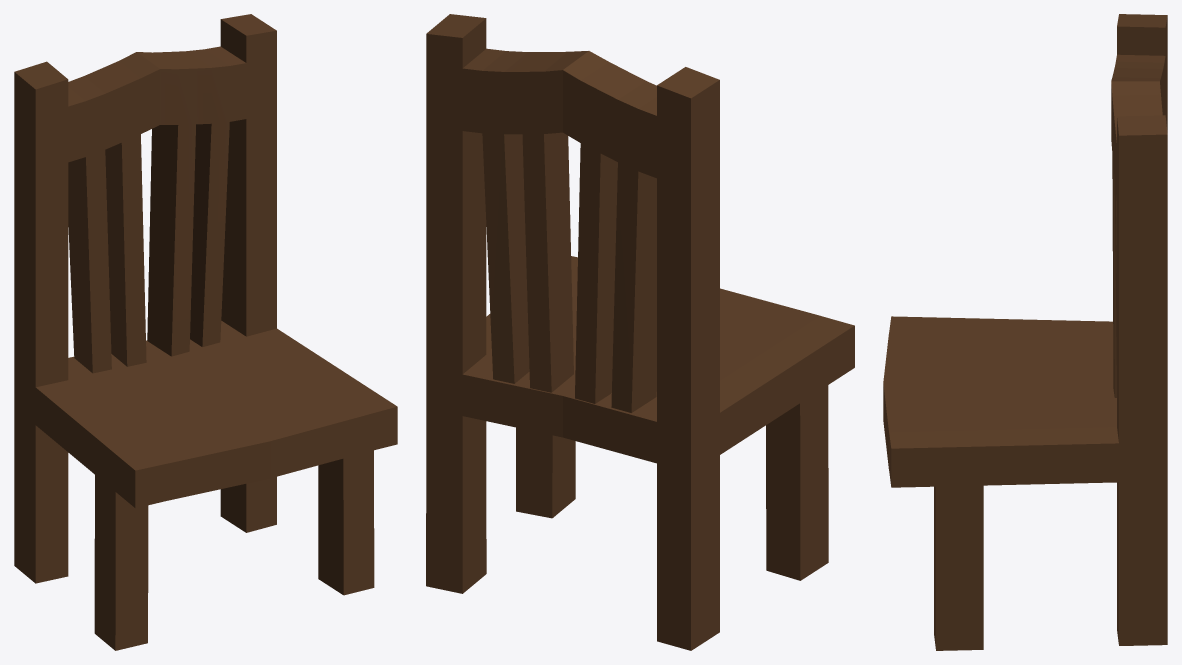
Rendered from Chair.fbx.
The picture shows the model from 3 angles, left to right: view 1: azimuth 30°, elevation 25°; view 2: azimuth 150°, elevation 25°; view 3: azimuth 270°, elevation 25°; orthographic projection. The views are drawn at different scales.
Parts seen in each view (by area): view 1: chair; view 2: chair; view 3: chair.
Part boxes in pixels (<box>): chair: <box>14,14,397,650</box>; chair: <box>426,14,854,650</box>; chair: <box>883,14,1167,650</box>.
Bounding box in the file's own units: 74.26 × 135 × 67.47.
